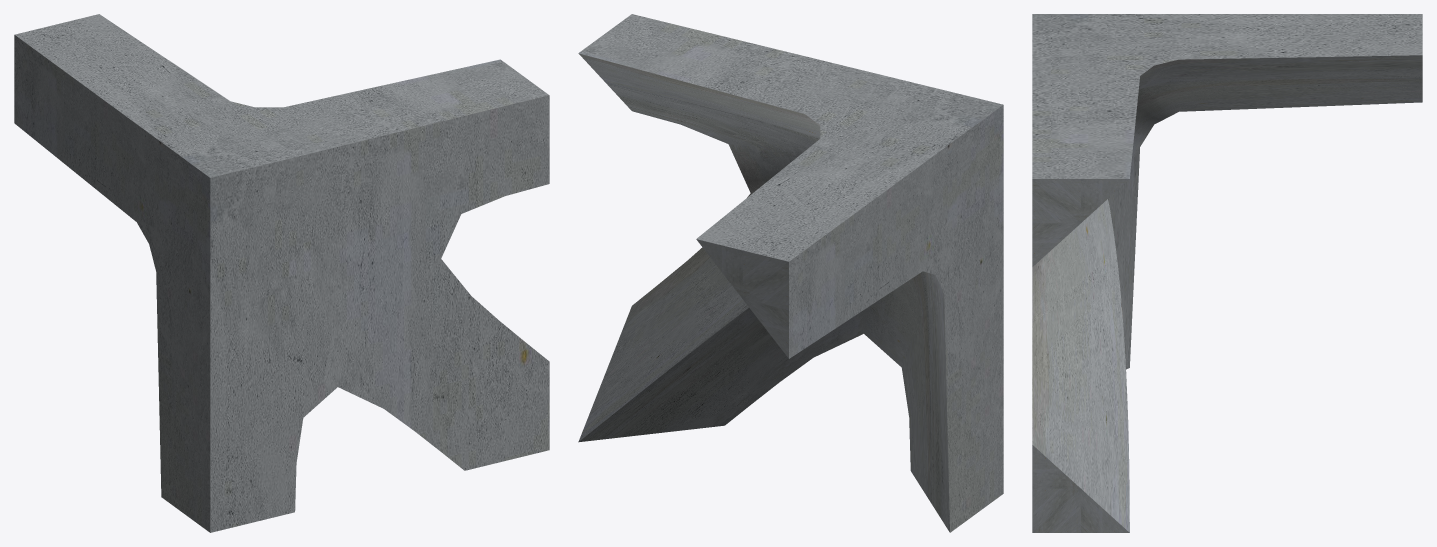
File: module_J1.fbx
The picture shows the model from 3 angles, left to right: view 1: azimuth 30°, elevation 25°; view 2: azimuth 150°, elevation 25°; view 3: azimuth 270°, elevation 25°; orthographic projection. The views are drawn at different scales.
Visible parts, largest first — view 1: modules; view 2: modules; view 3: modules.
Part boxes in pixels (x1,y1,x2,y2): modules: (14,14,549,532); modules: (578,14,1003,532); modules: (1032,14,1422,532).
Size of the model in its own units: 1000 by 1000 by 1000.
Materials: 1 (1 with a texture image).
